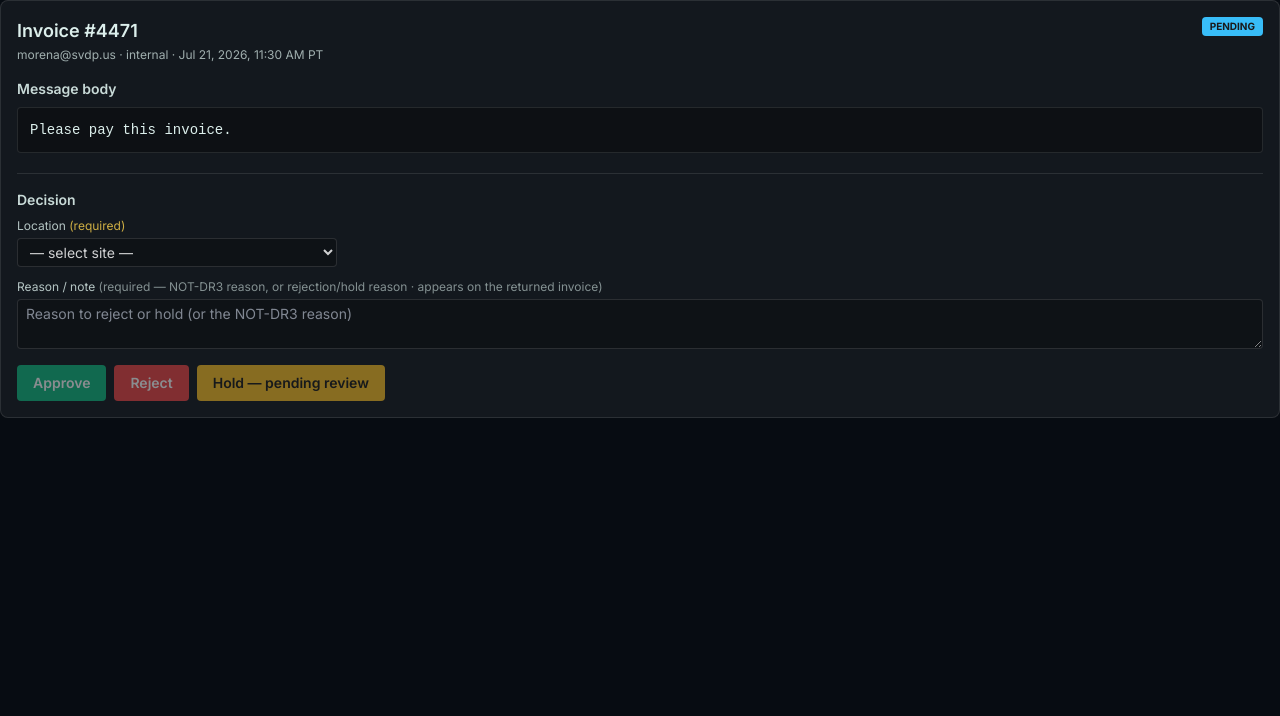
Test: DetailPanel — structured "Equipment not in list" hatch (ADR-0135 E) › picking from the list clears the hatch fields (no half-typed request rides along)
Select "Woodland" in the dropdown: (177, 252) [17,238,337,267]
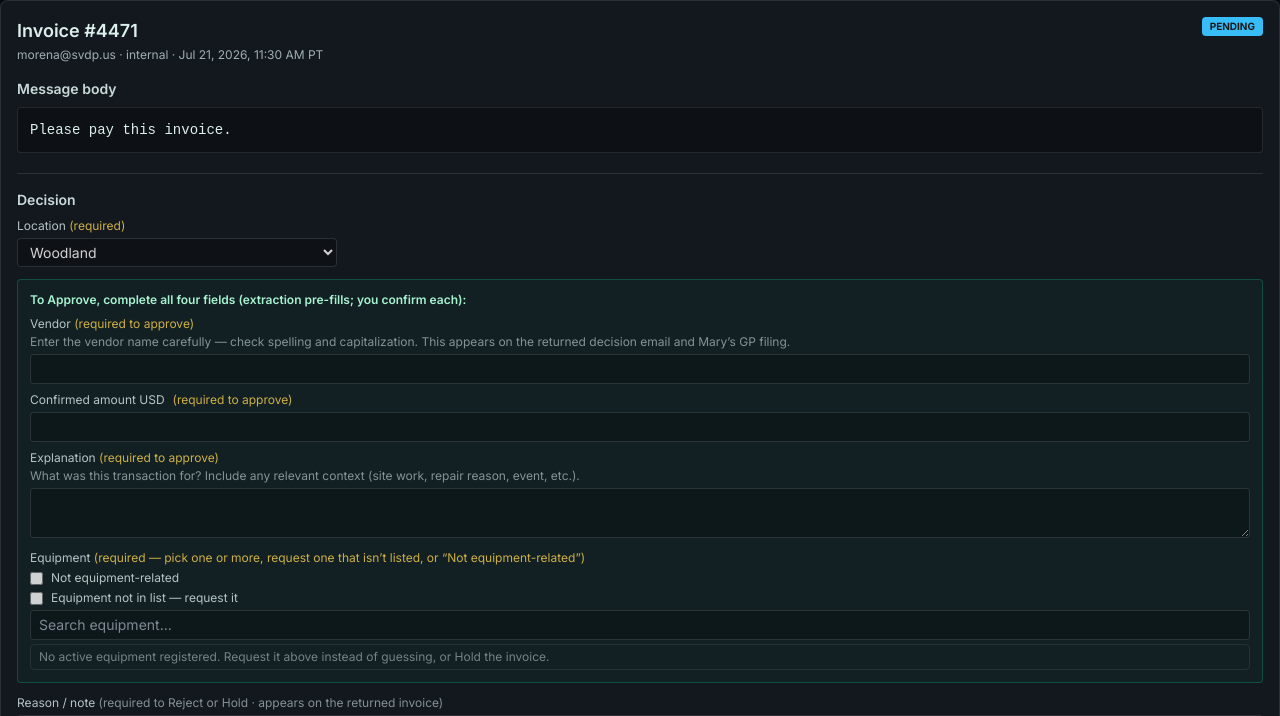
In the field labelled "Enter the vendor name carefully": (640, 369) [30,354,1250,384], type "Sunbelt Rentals"
In the field labelled "Confirmed amount USD (required to approve)": (640, 427) [30,412,1250,442], type "125.00"
In the text box labelled "What was this transaction for": (640, 513) [30,488,1250,538], type "trailer repair"
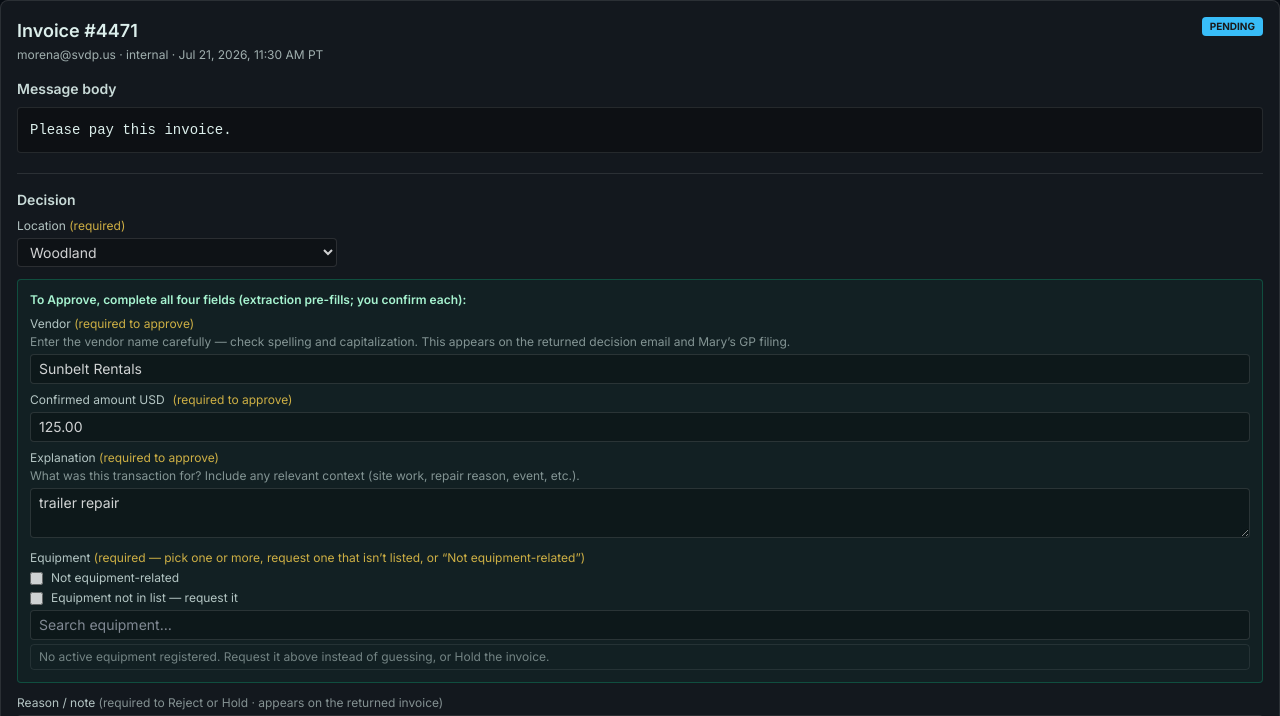
Click the checkbox with test id "ap-equipment-not-listed": click(36, 598) [30,592,43,604]
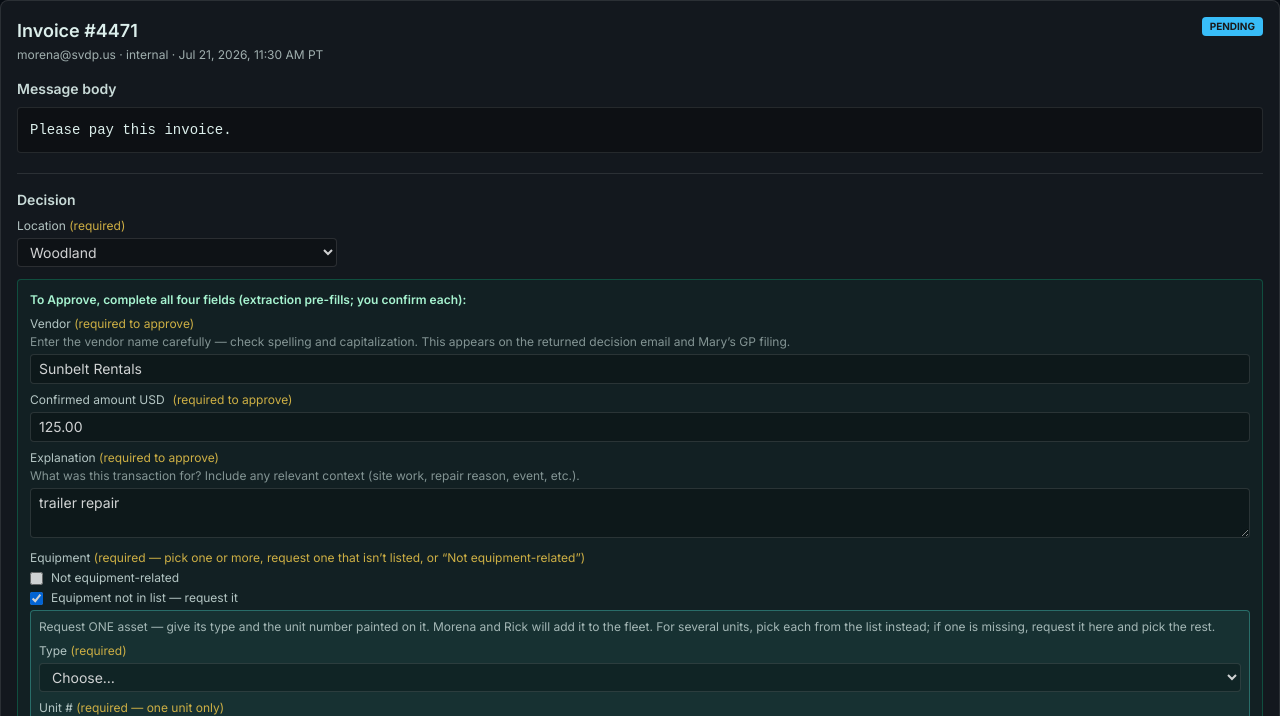
Select "Trailer" in the dropdown with test id "ap-equipment-request-type": (640, 678) [39,663,1241,692]
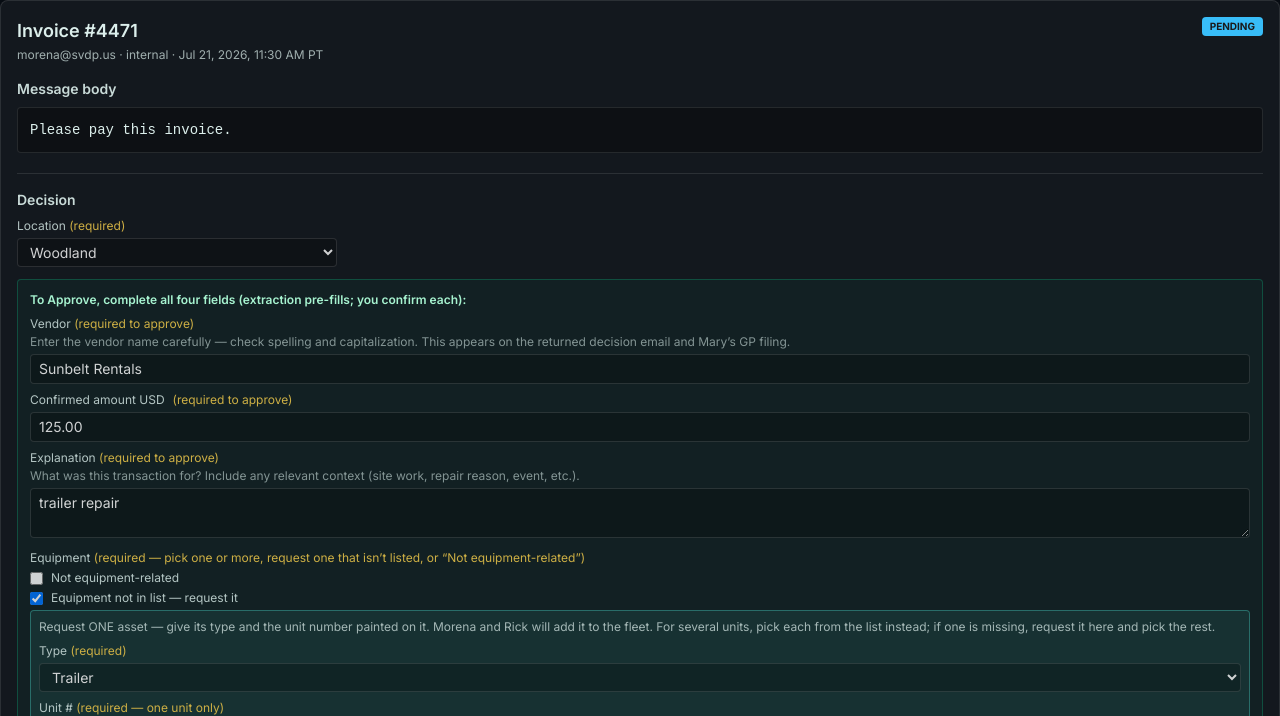
Click the checkbox with test id "ap-equipment-not-listed": click(36, 598) [30,592,43,604]
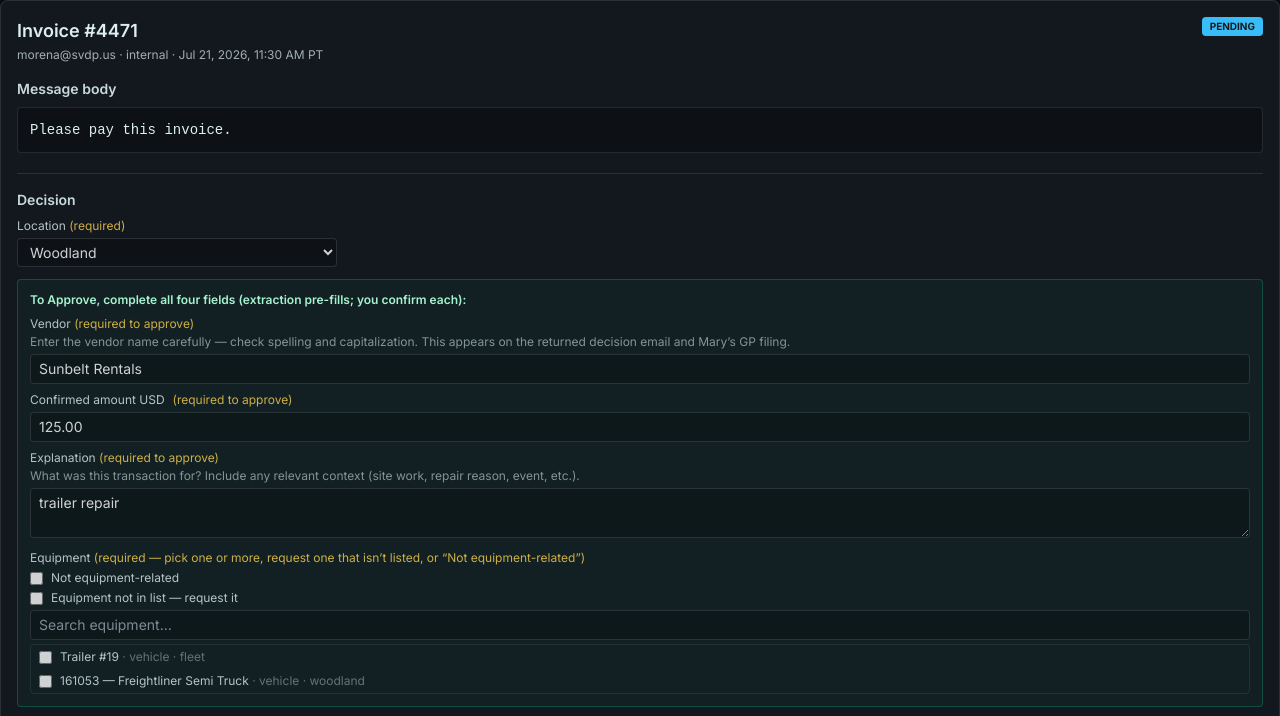
Expected: the text "Trailer #19" is shown, [60,649,119,664]
Click the checkbox with test id "ap-equipment-not-listed": click(36, 598) [30,592,43,604]
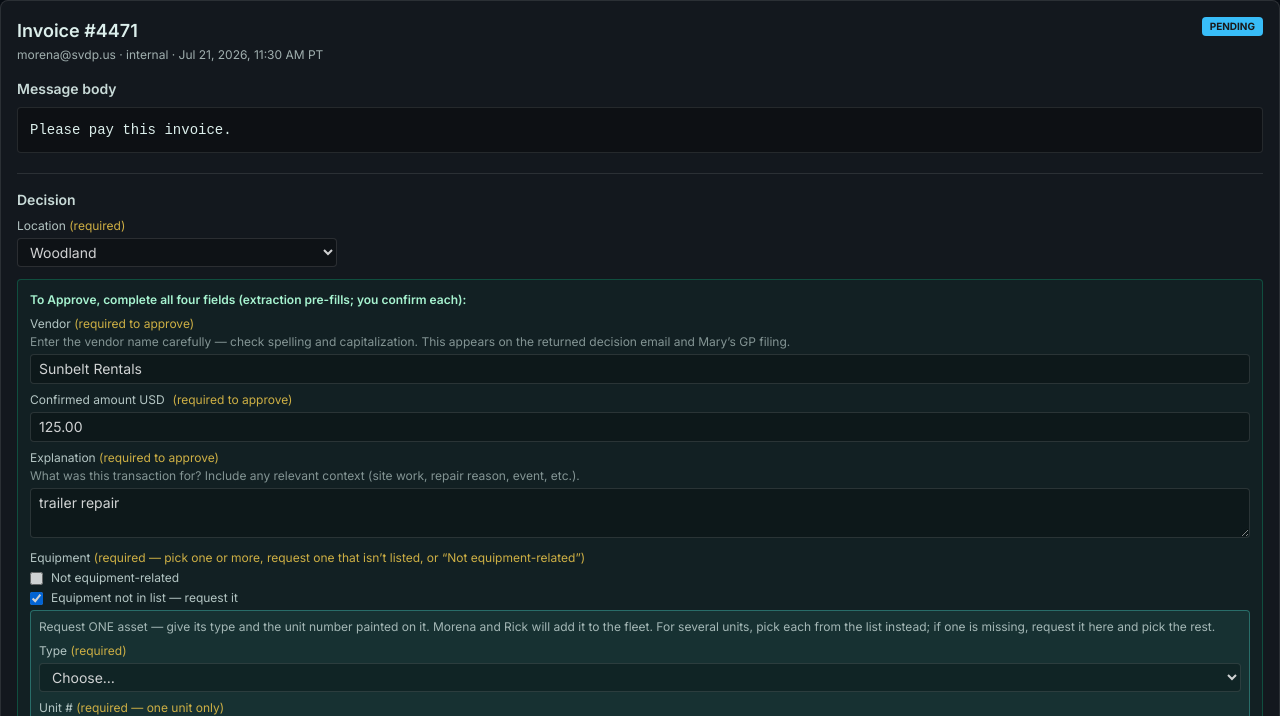
Expected: the dropdown with test id "ap-equipment-request-type" shows "Choose…", [39,663,1241,692]
